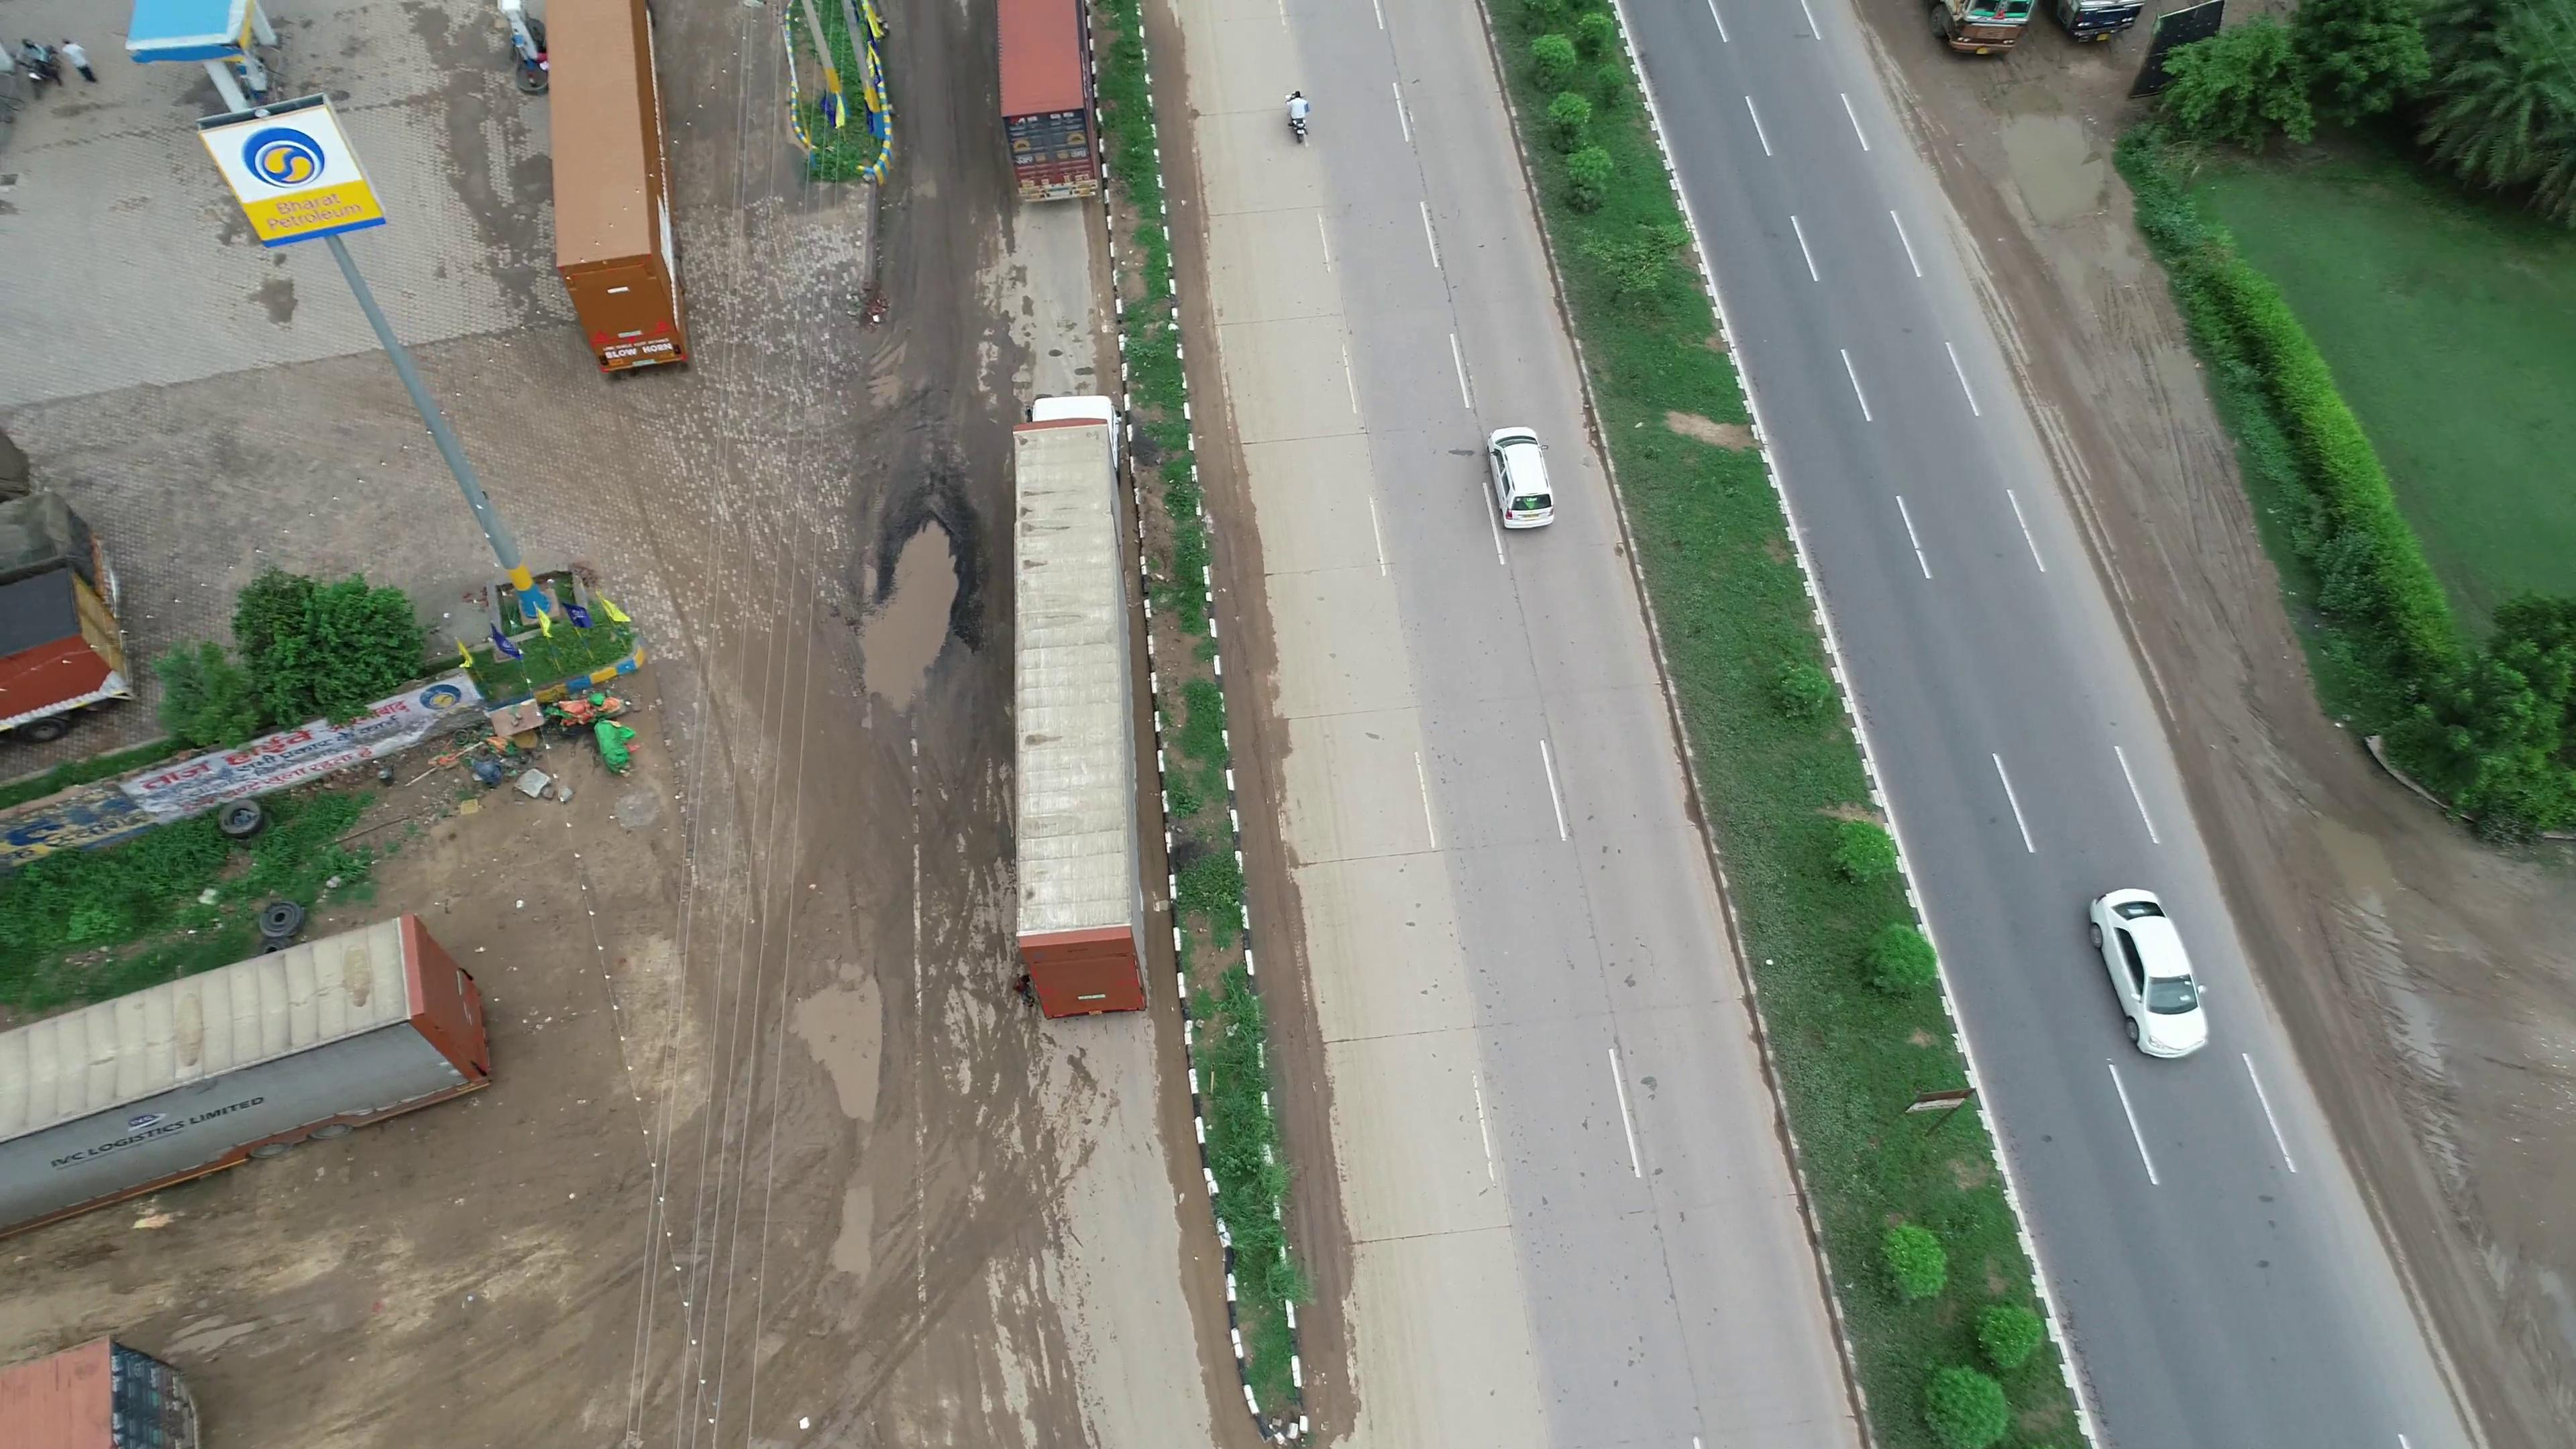Muddy_road: (2020, 260, 2265, 699)
